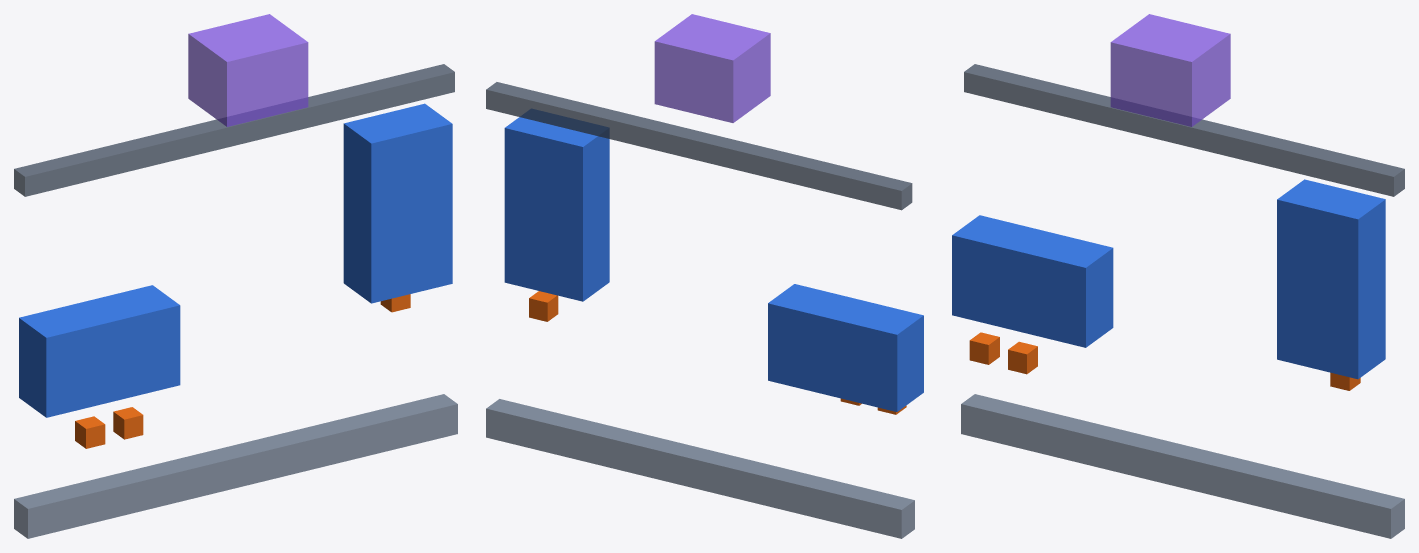
The model's file is demo-scene.glb.
The picture shows the model from 3 angles, left to right: view 1: azimuth 30°, elevation 25°; view 2: azimuth 150°, elevation 25°; view 3: azimuth 330°, elevation 25°; orthographic projection. The views are drawn at different scales.
Parts seen in each view (by area): view 1: Lift_B, Bridge_01, Lift_A, Rail_01, Stocker_01, Port_A_02, Port_A_01; view 2: Lift_B, Bridge_01, Lift_A, Rail_01, Stocker_01, Port_B_01; view 3: Lift_B, Bridge_01, Lift_A, Rail_01, Stocker_01, Port_A_01, Port_A_02.
Part boxes in pixels (x1,y1,x2,y2): Lift_B: [343, 103, 452, 303]; Bridge_01: [14, 394, 457, 538]; Lift_A: [19, 285, 180, 417]; Rail_01: [14, 64, 454, 196]; Stocker_01: [188, 14, 308, 126]; Port_A_02: [113, 407, 143, 439]; Port_A_01: [75, 416, 105, 448]; Lift_B: [504, 109, 609, 301]; Bridge_01: [486, 399, 914, 538]; Lift_A: [768, 284, 923, 411]; Rail_01: [486, 82, 912, 210]; Stocker_01: [654, 14, 770, 122]; Port_B_01: [529, 291, 558, 321]; Lift_B: [1277, 179, 1385, 379]; Bridge_01: [961, 394, 1404, 538]; Lift_A: [952, 215, 1113, 347]; Rail_01: [964, 64, 1404, 196]; Stocker_01: [1110, 14, 1230, 126]; Port_A_01: [969, 332, 999, 364]; Port_A_02: [1008, 341, 1037, 374].
Size of the model in its own units: 180 by 181 by 28.
